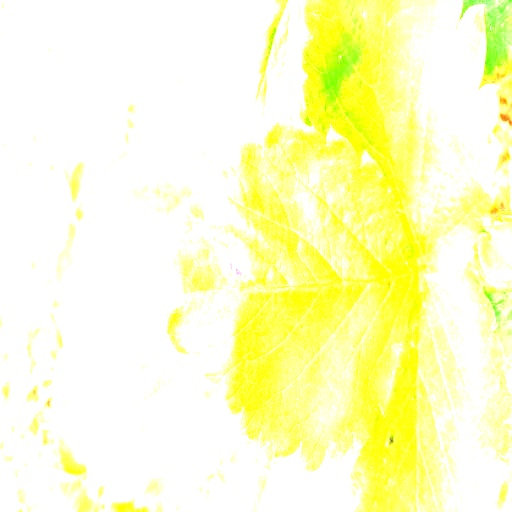Leaf Spot: (157, 117, 423, 474), (300, 0, 500, 270), (347, 266, 511, 511), (172, 0, 310, 171)
